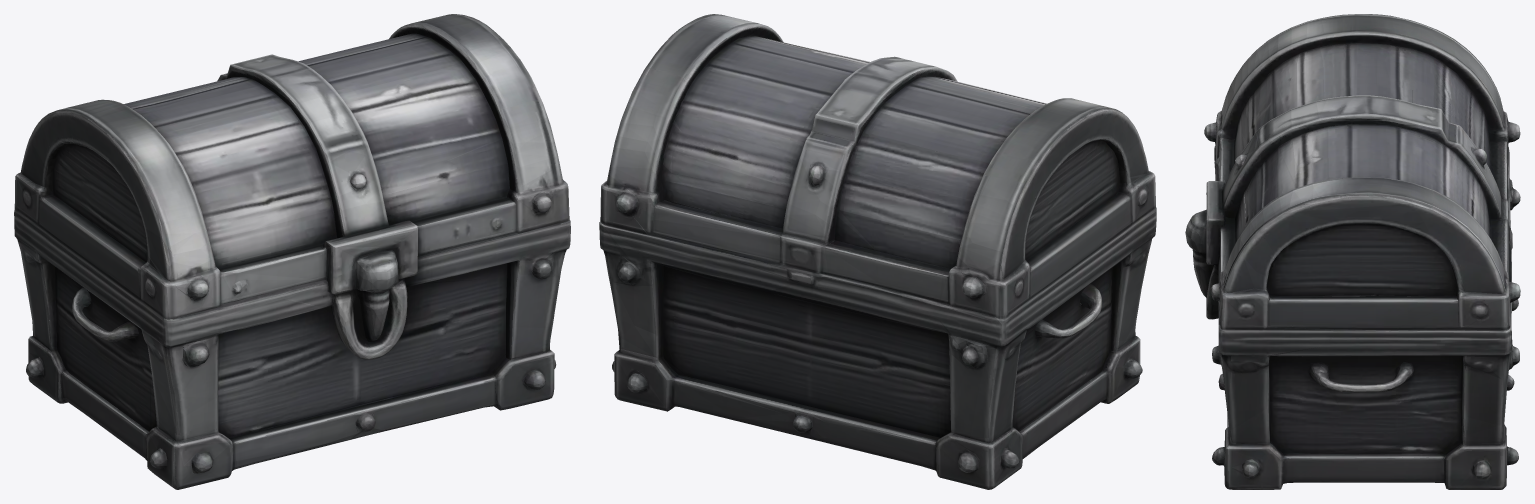
Rendered from treasure-chest.glb.
The picture shows the model from 3 angles, left to right: view 1: azimuth 30°, elevation 25°; view 2: azimuth 150°, elevation 25°; view 3: azimuth 270°, elevation 25°; orthographic projection. The views are drawn at different scales.
Parts seen in each view (by area): view 1: world; view 2: world; view 3: world.
Boxes of the visible parts, bbox=[...] form: world: bbox=[14, 14, 570, 489]; world: bbox=[599, 14, 1156, 489]; world: bbox=[1185, 14, 1520, 489].
Bounding box in the file's own units: 0.9951 × 0.7293 × 0.7391.
1 material, 1 textured.
